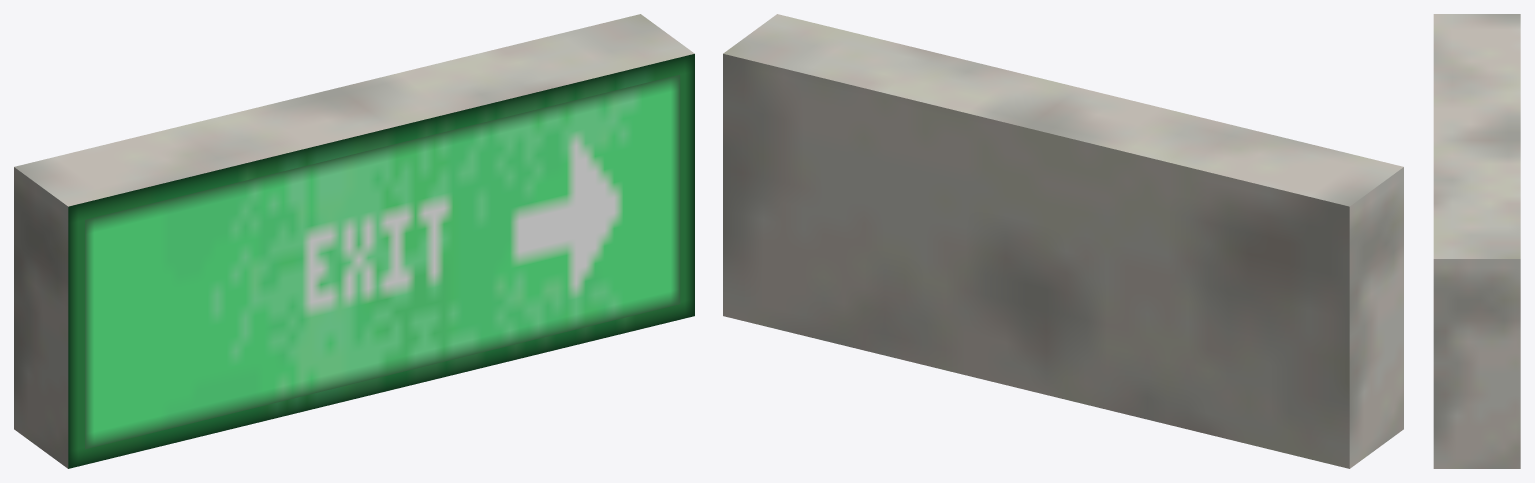
The model's file is exit_sign_right.fbx.
3 views of the same model, side by side, from view 1: azimuth 30°, elevation 25°; view 2: azimuth 150°, elevation 25°; view 3: azimuth 270°, elevation 25° (orthographic). The views are drawn at different scales.
Visible parts, largest first — view 1: exit_sign_right_lamp, exit_sign_right; view 2: exit_sign_right; view 3: exit_sign_right.
Part boxes in pixels (bbox=[...]): exit_sign_right_lamp: bbox=[85, 74, 680, 449]; exit_sign_right: bbox=[14, 14, 694, 468]; exit_sign_right: bbox=[723, 14, 1403, 468]; exit_sign_right: bbox=[1433, 14, 1520, 468].
Bounding box in the file's own units: 0.4 × 0.16 × 0.061.
